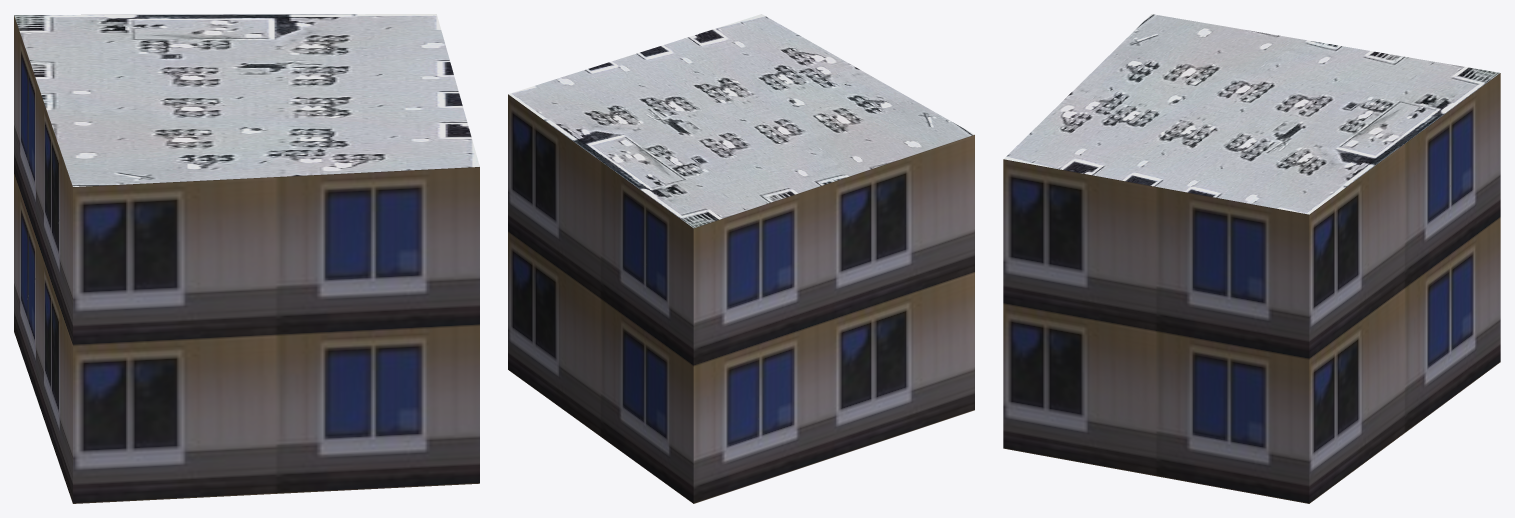
Rendered from ResTex__2560.fbx.
The picture shows the model from 3 angles, left to right: view 1: azimuth 30°, elevation 25°; view 2: azimuth 150°, elevation 25°; view 3: azimuth 270°, elevation 25°; orthographic projection. The views are drawn at different scales.
Visible parts, largest first — view 1: CityEngineMaterial_5_m, CityEngineMaterial_4_m; view 2: CityEngineMaterial_5_m, CityEngineMaterial_4_m; view 3: CityEngineMaterial_5_m, CityEngineMaterial_4_m.
Boxes of the visible parts, x1,y1,x2,y2 form: CityEngineMaterial_5_m: (14, 15, 479, 503); CityEngineMaterial_4_m: (14, 14, 479, 186); CityEngineMaterial_5_m: (508, 94, 974, 503); CityEngineMaterial_4_m: (508, 14, 974, 228); CityEngineMaterial_5_m: (1003, 73, 1500, 503); CityEngineMaterial_4_m: (1004, 14, 1499, 214).
Size of the model in its own units: 8.92 by 6 by 9.34.
Materials: 2 (2 with a texture image).
